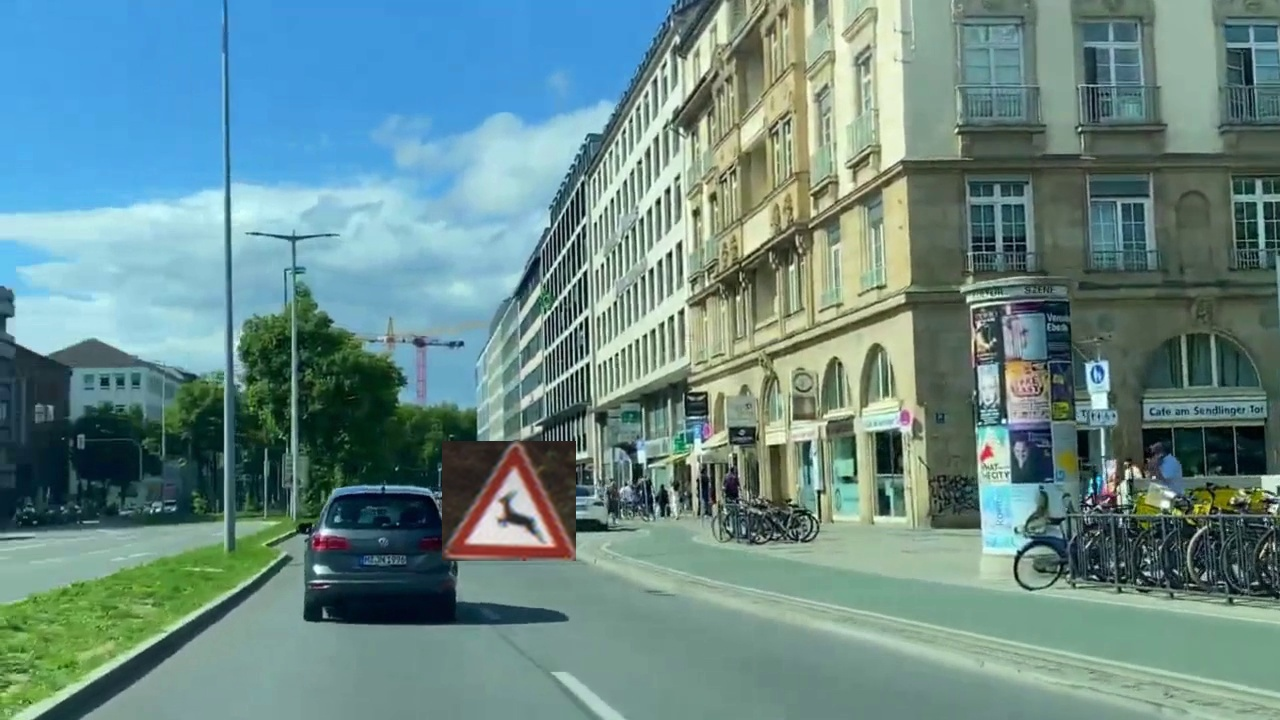Wild animals: (442, 441, 576, 561)
